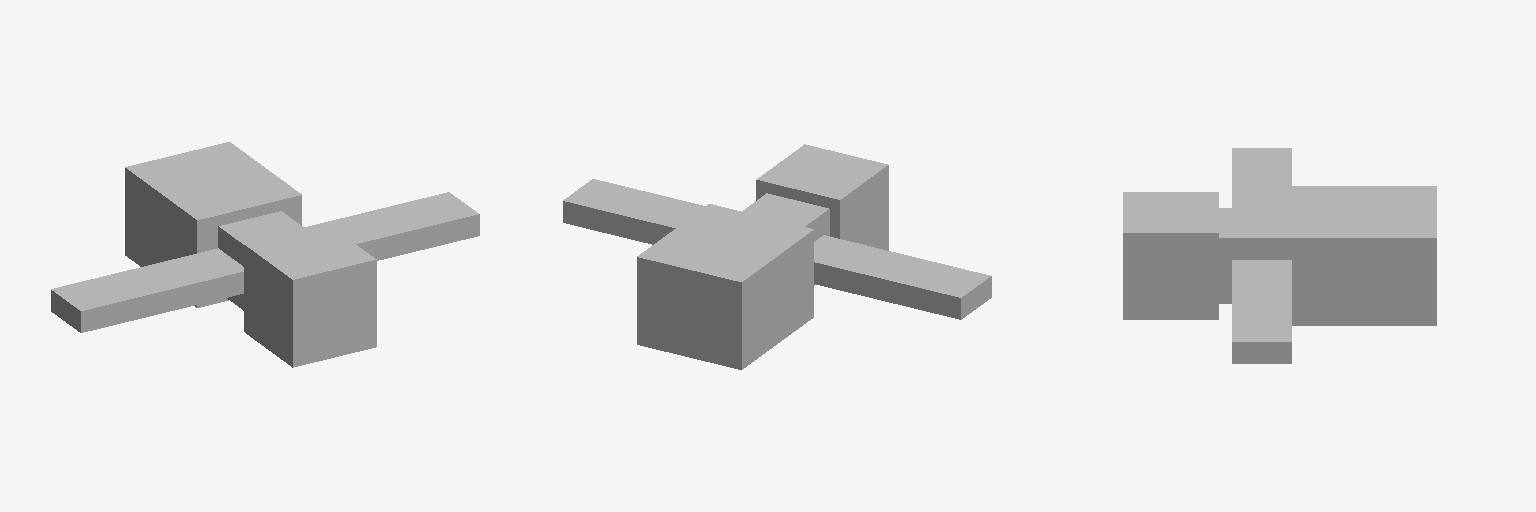
The model's file is cavespider.geo.obj.
3 views of the same model, side by side, from view 1: azimuth 30°, elevation 25°; view 2: azimuth 150°, elevation 25°; view 3: azimuth 270°, elevation 25° (orthographic).
Parts seen in each view (by area): view 1: head, body1, leg6, leg7, body0, leg2, leg3, leg0, leg4, leg1; view 2: body1, head, leg0, leg1, body0, leg4, leg6, leg3, leg5, leg7; view 3: body1, head, body0, leg1, leg7, leg5, leg0, leg3, leg6, leg4, leg2.
Part boxes in pixels (left/top/right/bottom): head: left=244, top=224, right=376, bottom=367; body1: left=125, top=142, right=301, bottom=307; leg6: left=69, top=266, right=243, bottom=332; leg7: left=344, top=205, right=479, bottom=260; body0: left=218, top=211, right=305, bottom=310; leg2: left=57, top=253, right=224, bottom=323; leg3: left=332, top=197, right=465, bottom=234; leg0: left=51, top=248, right=229, bottom=314; leg4: left=64, top=257, right=241, bottom=328; leg1: left=304, top=192, right=454, bottom=228; body1: left=637, top=204, right=813, bottom=369; head: left=756, top=144, right=888, bottom=250; leg0: left=814, top=250, right=972, bottom=319; leg1: left=563, top=192, right=687, bottom=244; body0: left=742, top=193, right=829, bottom=285; leg4: left=814, top=240, right=984, bottom=309; leg6: left=814, top=235, right=991, bottom=306; leg3: left=570, top=189, right=692, bottom=223; leg5: left=576, top=183, right=698, bottom=218; leg7: left=587, top=179, right=705, bottom=214; body1: left=1292, top=186, right=1436, bottom=325; head: left=1123, top=192, right=1218, bottom=319; body0: left=1219, top=208, right=1291, bottom=303; leg1: left=1268, top=260, right=1291, bottom=363; leg7: left=1232, top=260, right=1255, bottom=363; leg5: left=1244, top=260, right=1267, bottom=363; leg0: left=1268, top=148, right=1291, bottom=207; leg3: left=1256, top=260, right=1279, bottom=363; leg6: left=1232, top=148, right=1255, bottom=207; leg4: left=1244, top=148, right=1267, bottom=207; leg2: left=1256, top=148, right=1279, bottom=207.
Bounding box in the file's own units: 2.38 × 0.5 × 1.62.